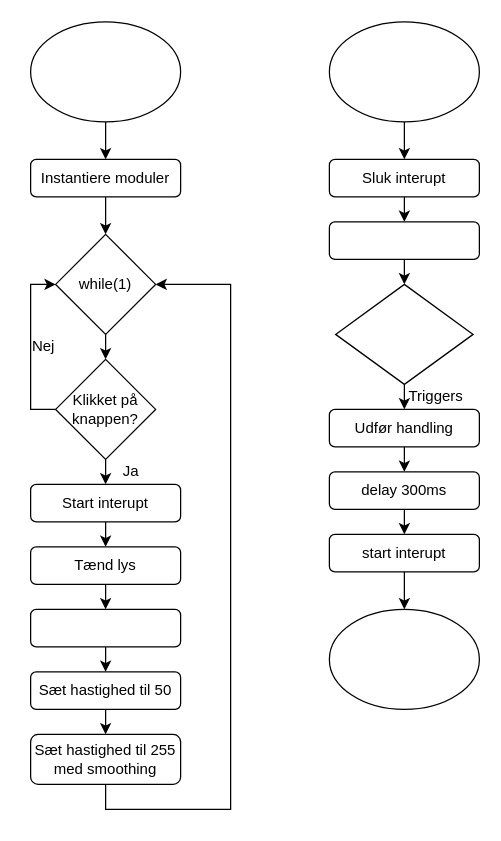
Image size: 501x841. Some labels were removed from this diagram. Here are the shapes that lost their labels. From the top down, the centre of each, then its label:
At (105,71): "main()".
At (403,71): "ISR(INT0_vect)".
At (403,240): "Inkrementerer triggers".
At (403,333): "switch(triggers)".
At (105,627): "Afspil start lyd".
At (403,658): "end".
